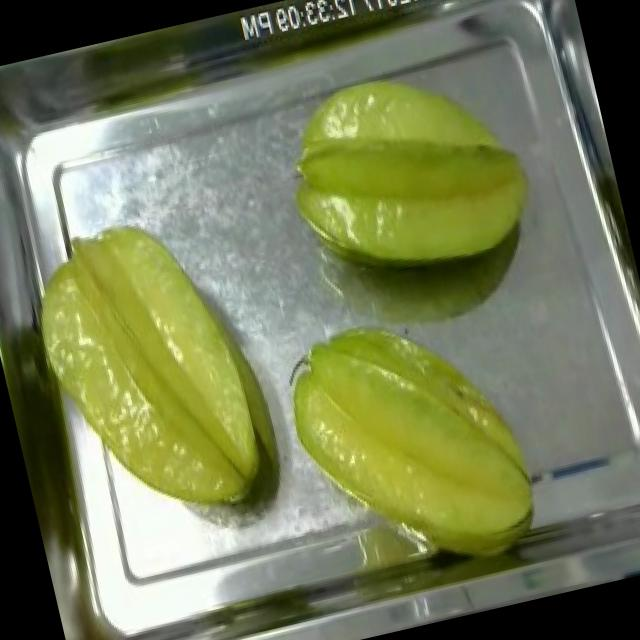fruit: (10, 191, 291, 553), (262, 283, 562, 607), (257, 35, 556, 308)
